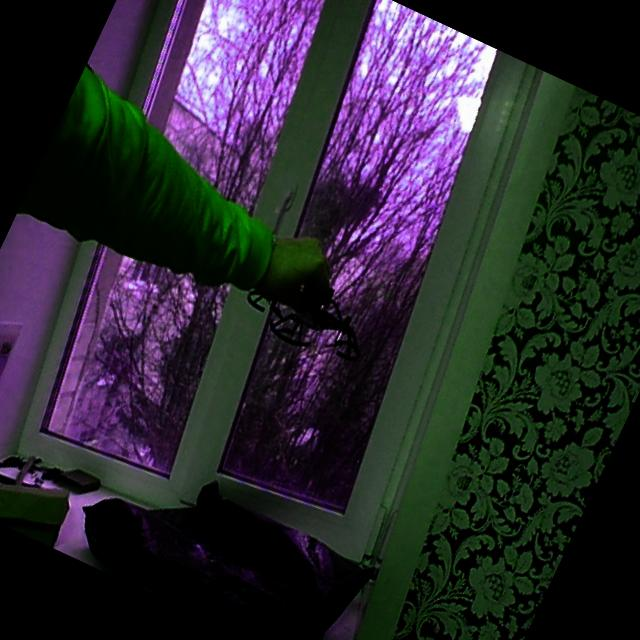drone: (225, 242, 392, 386)
